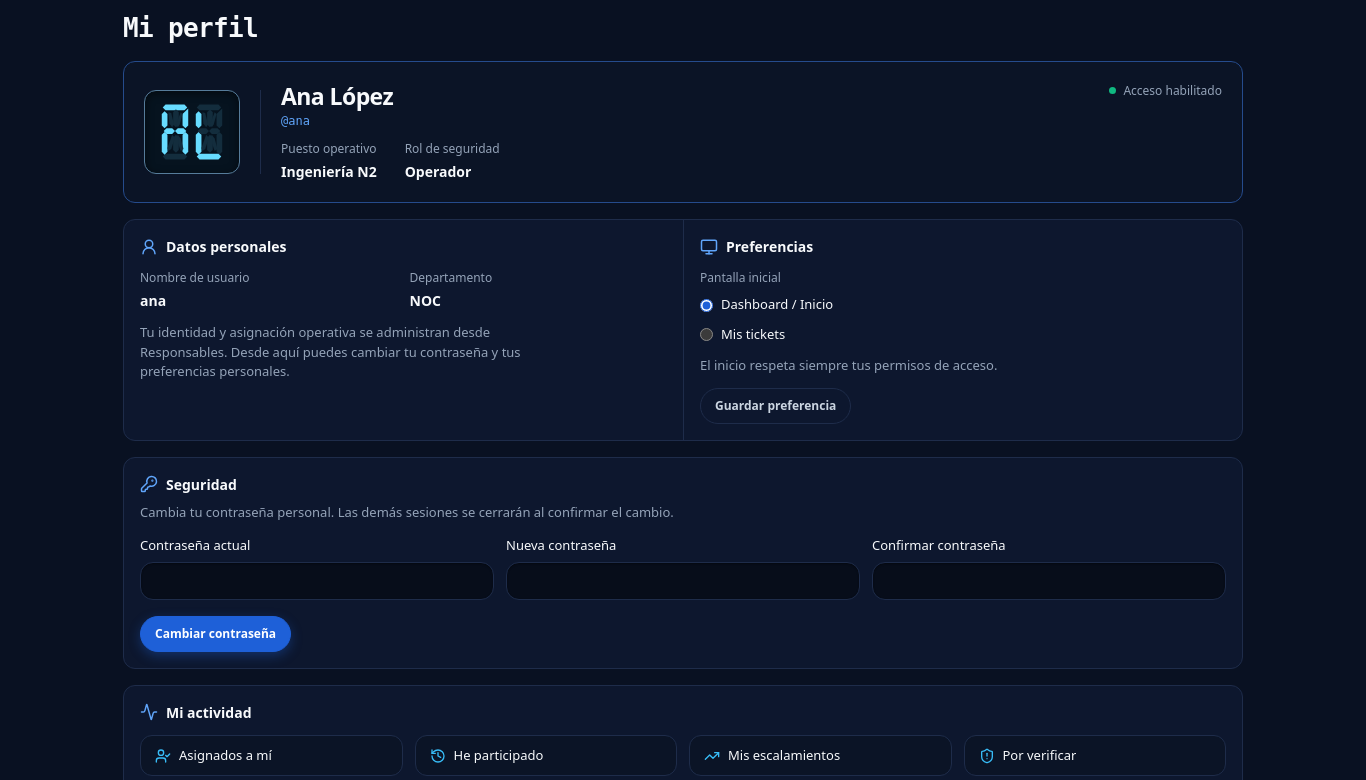
Test case: Mi perfil e identidad LCD › permite elegir y guardar la preferencia de inicio para Dashboard o Mis tickets
The width and height of the screenshot is (1366, 780).
Expected: the radio button labelled "Dashboard / Inicio" is checked, [700,298,713,312]
Expected: the radio button labelled "Mis tickets" is not checked, [700,328,713,341]
// Submit with Dashboard
Submit the form named "Preferencias personales", box [700,269,997,424]
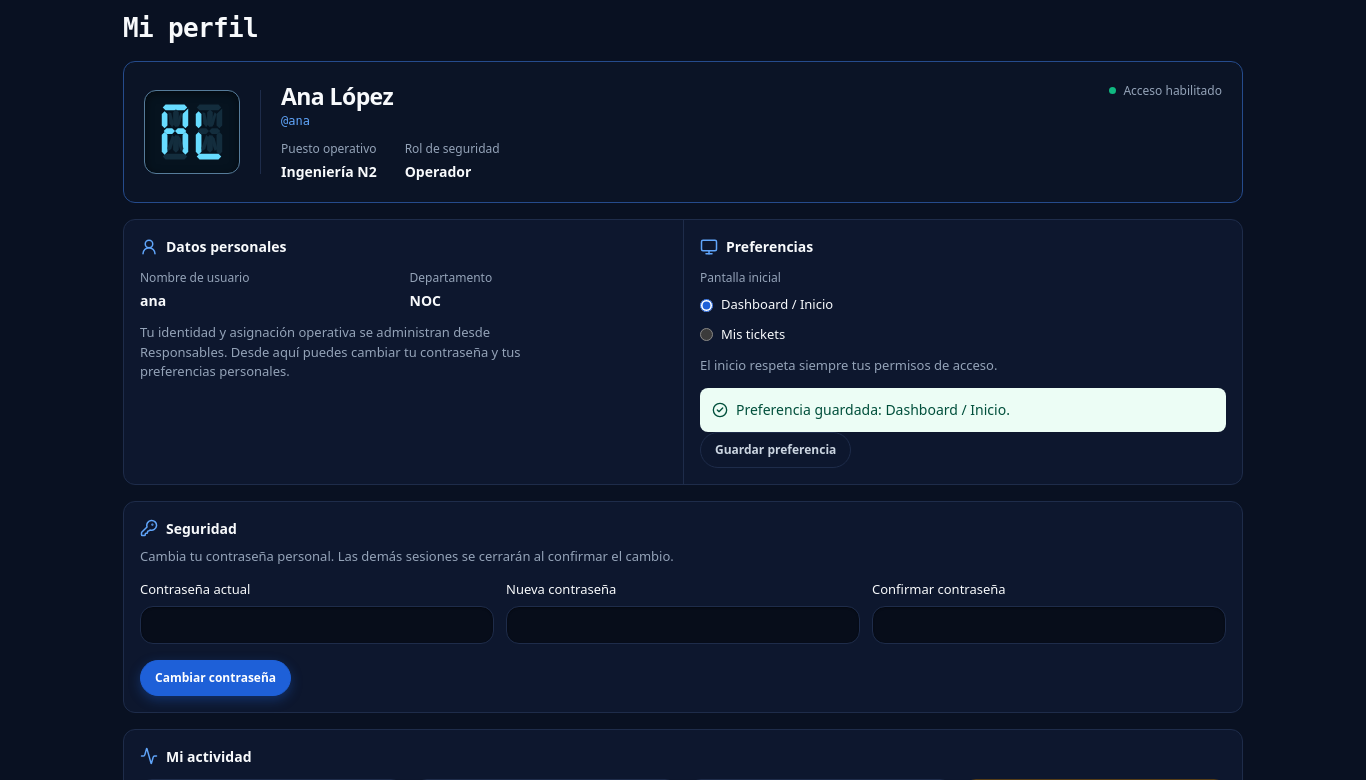
Now the text "Preferencia guardada: Dashboard / Inicio." is shown, box [736,400,1010,420]
// Change to Mis tickets and submit
Click the radio button labelled "Mis tickets": (706, 334) [700,328,713,341]
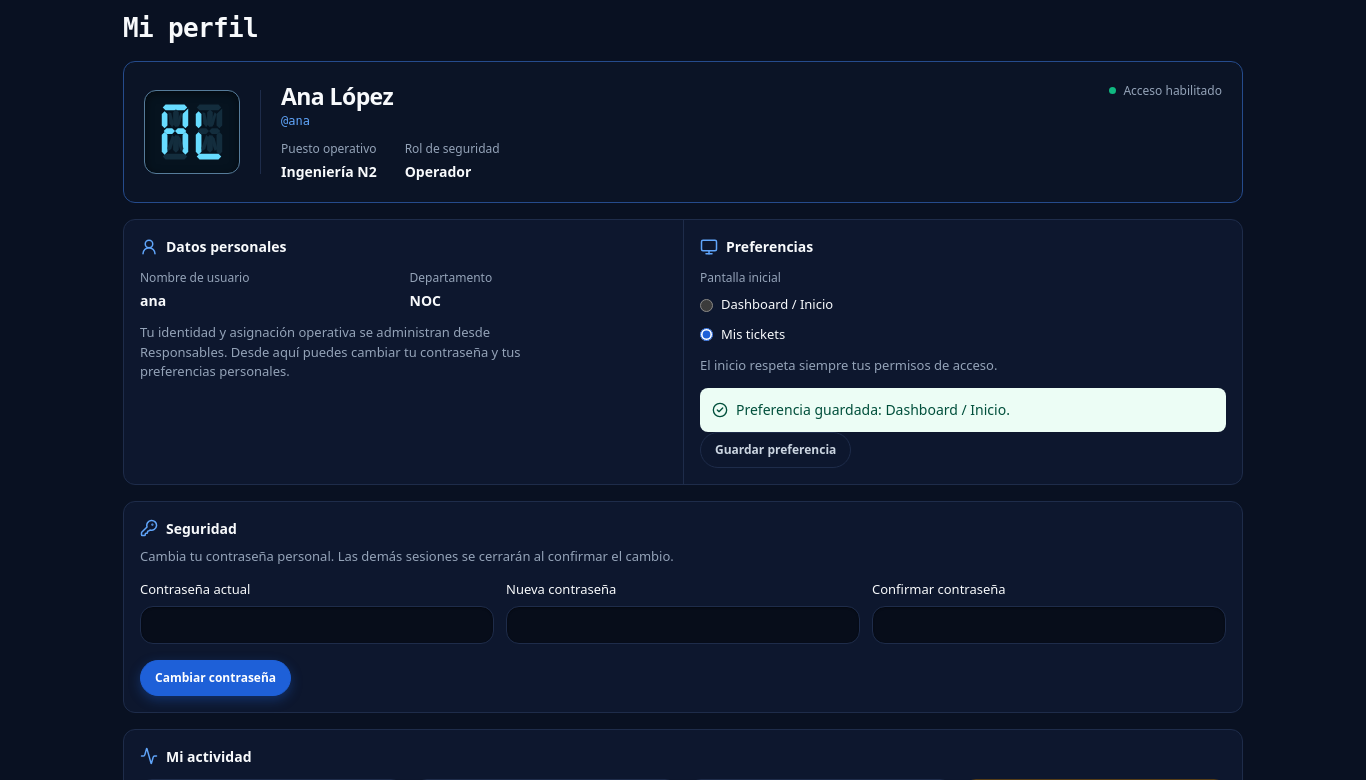
Now the radio button labelled "Mis tickets" is checked, box [700,328,713,341]
Now the radio button labelled "Dashboard / Inicio" is not checked, box [700,298,713,312]
Submit the form named "Preferencias personales", box [700,269,1226,468]
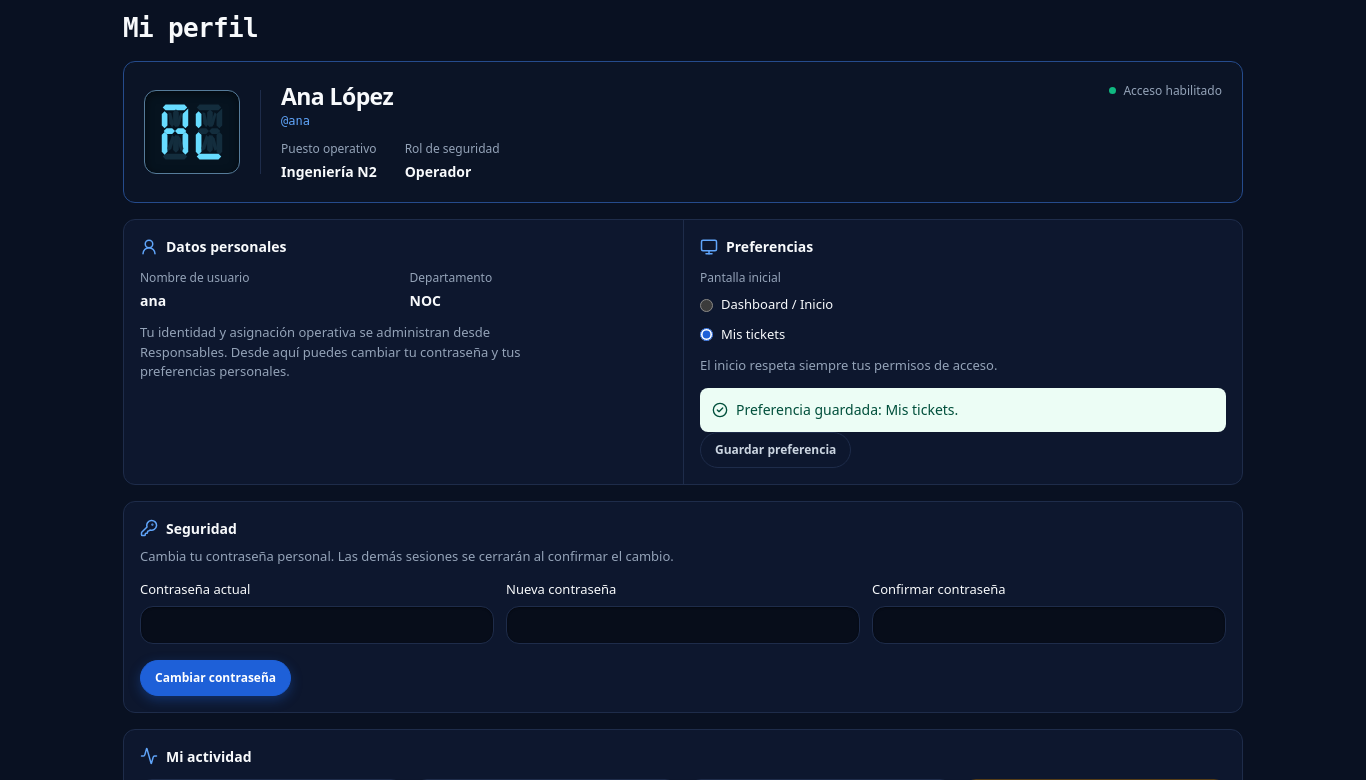
Now the text "Preferencia guardada: Mis tickets." is shown, box [736,400,958,420]
